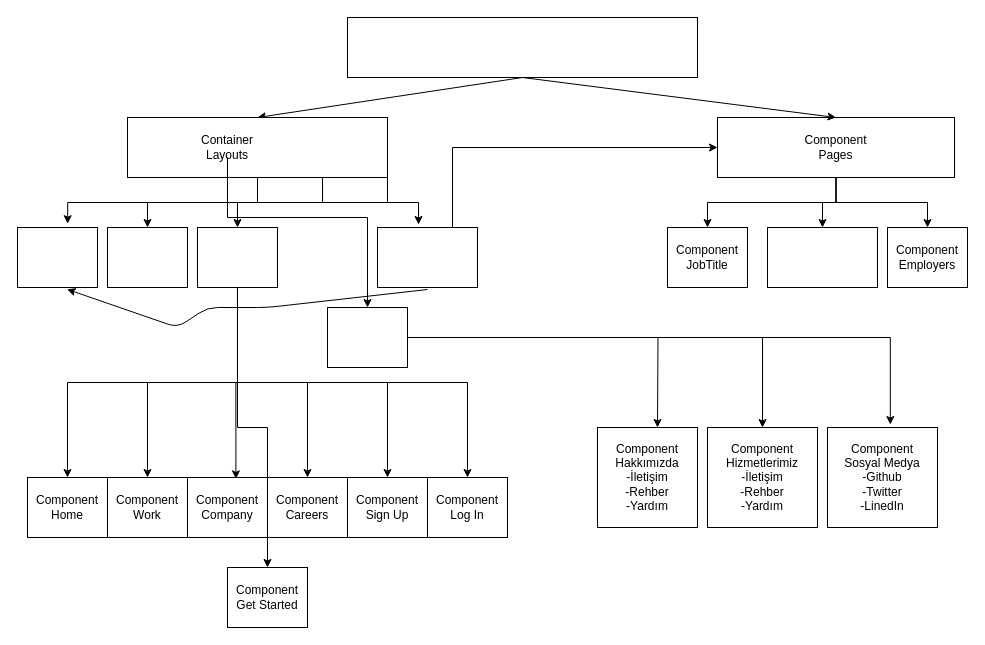
This 985x645 diagram has some shape labels left out. Here are the shapes that lost their labels. From the top down, the centre of each, then its label:
the point at 522,47: COMPONENT APP.JS
the point at 57,257: Component Dashboard
the point at 147,257: Component SideBar
the point at 237,257: Component Navi
the point at 427,257: Component Fragment
the point at 822,257: Component JobAdvertisement
the point at 367,337: Component Footer
